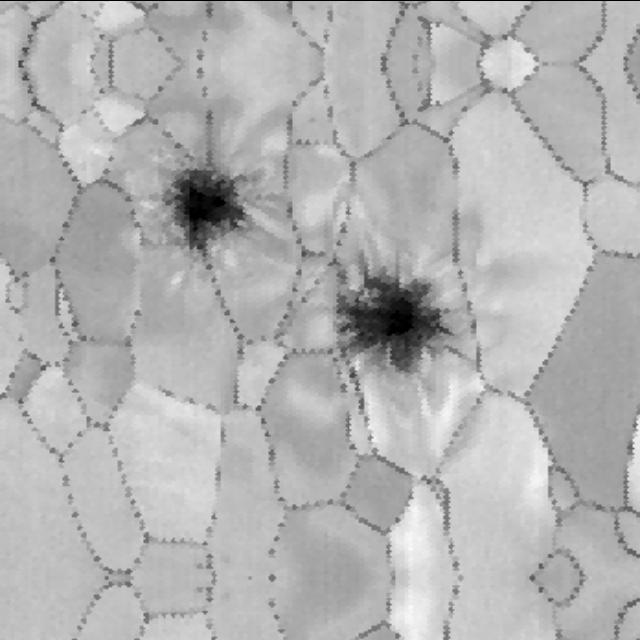good_void: (157, 153, 267, 293), (325, 266, 458, 378)
